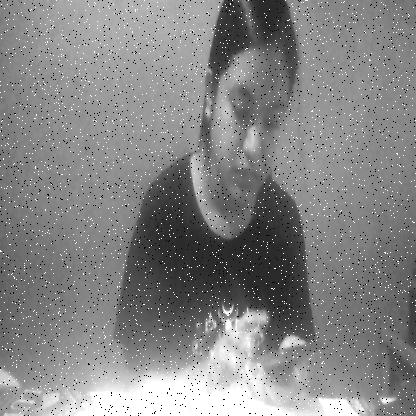Distracted: (193, 6, 316, 241)
